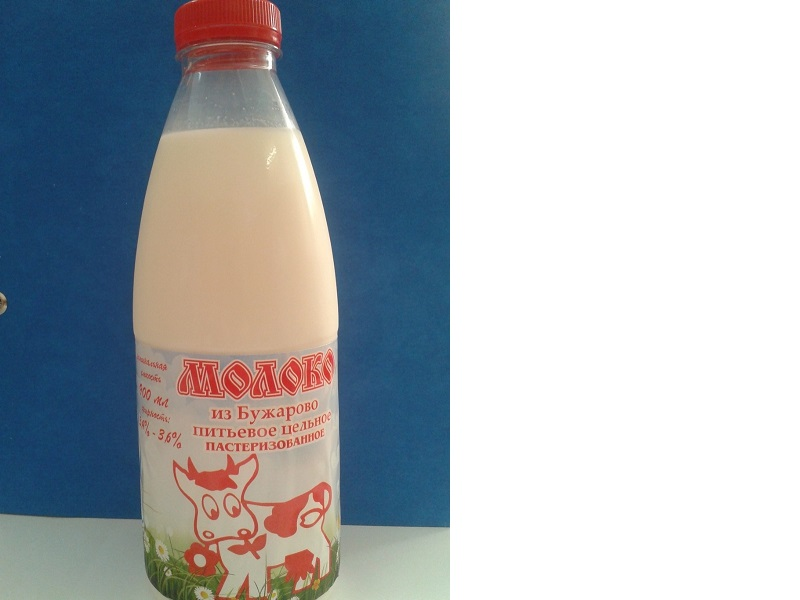milk: (107, 1, 357, 600)
